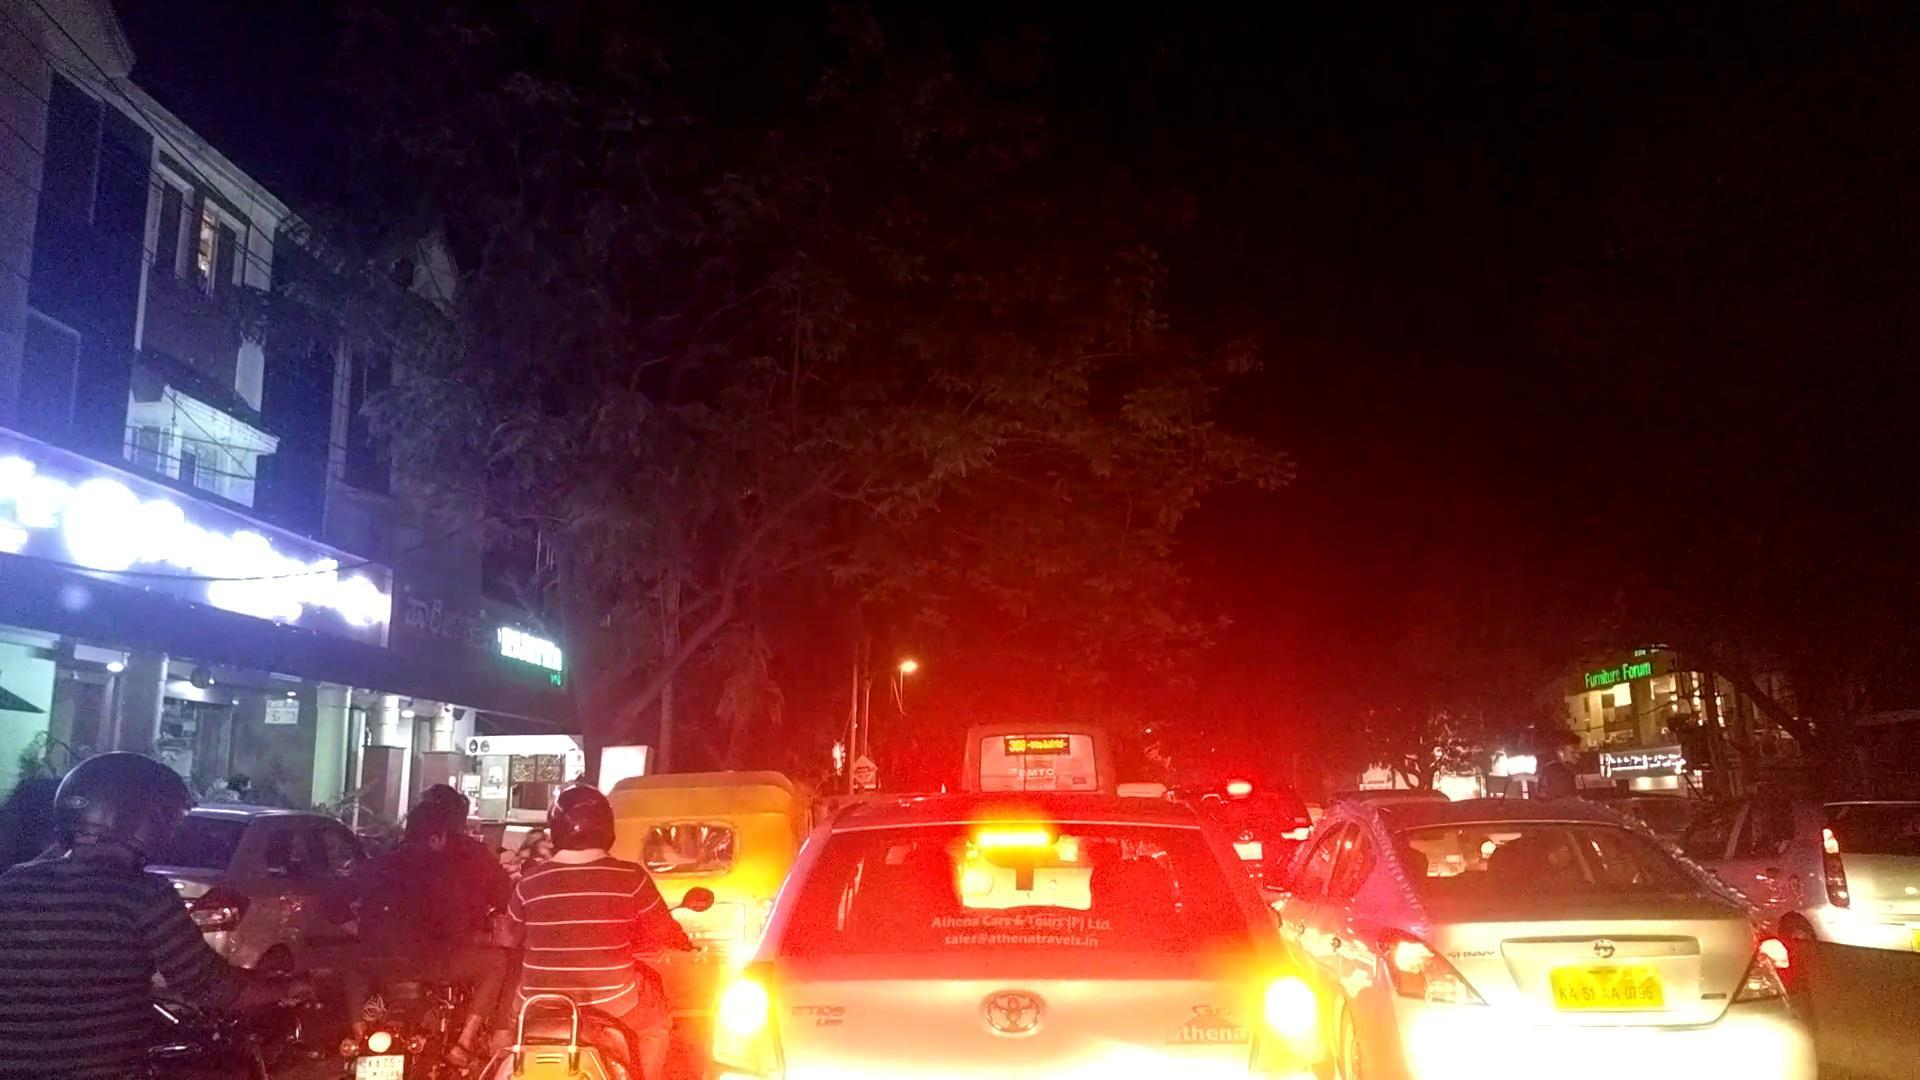on: (90, 12, 1920, 1080)
